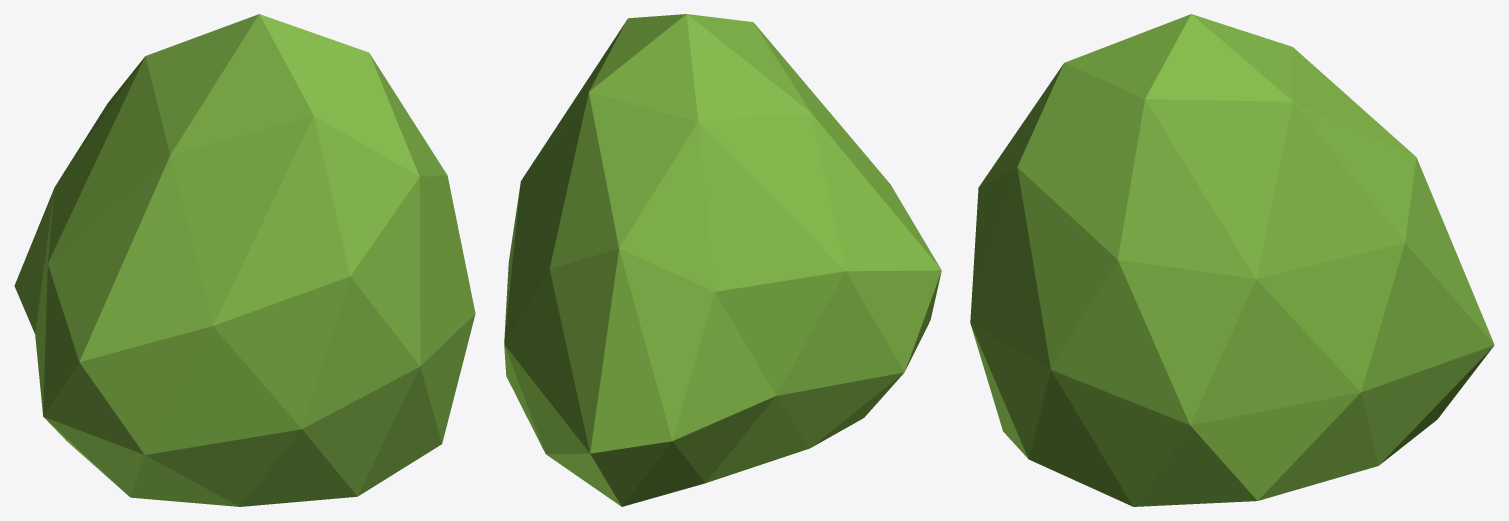
3 renders of one model, left to right at view 1: azimuth 30°, elevation 25°; view 2: azimuth 150°, elevation 25°; view 3: azimuth 270°, elevation 25°, orthographic. The views are drawn at different scales.
Parts seen in each view (by area): view 1: Bush1_1; view 2: Bush1_1; view 3: Bush1_1.
Boxes of the visible parts, left/top/right/bottom form: Bush1_1: left=14, top=14, right=475, bottom=506; Bush1_1: left=504, top=14, right=941, bottom=506; Bush1_1: left=970, top=14, right=1494, bottom=506.
Size of the model in its own units: 118 by 117 by 128.
